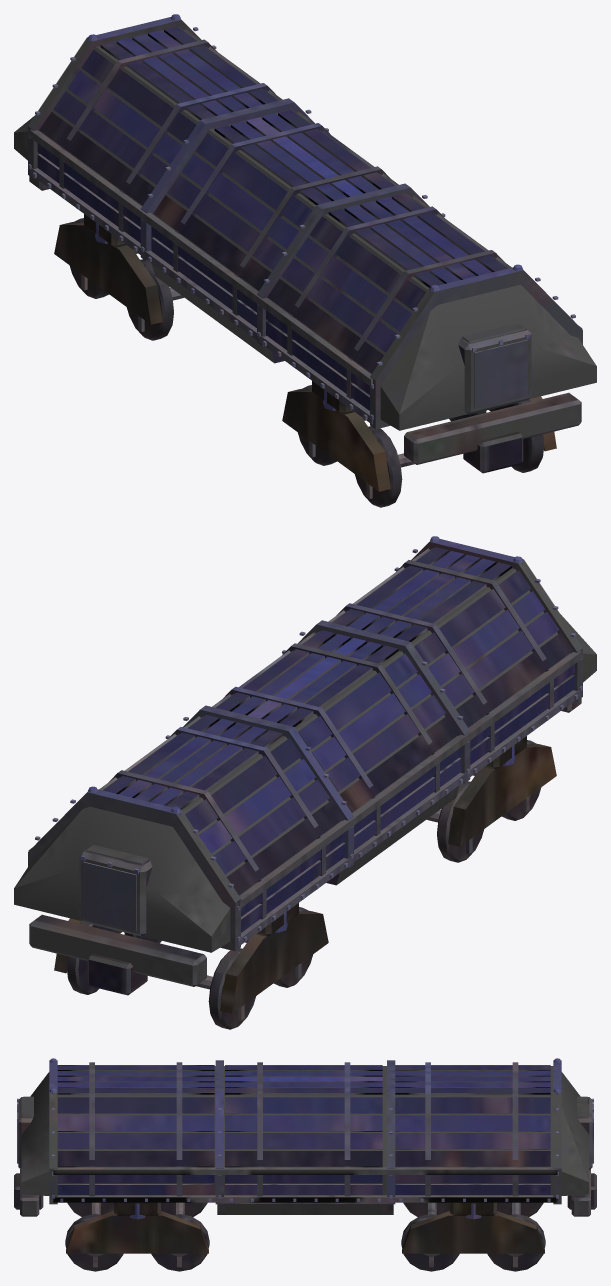
File: infinity-cargo-wagon.glb
3 renders of one model, top to bottom at view 1: azimuth 30°, elevation 25°; view 2: azimuth 150°, elevation 25°; view 3: azimuth 270°, elevation 25°, orthographic. The views are drawn at different scales.
Visible parts, largest first — view 1: body, anim_wheel_rail, anim_wheel_rail.002, anim_wheel_rail.001; view 2: body, anim_wheel_rail.003, anim_wheel_rail.001, anim_wheel_rail.002; view 3: body, anim_wheel_rail, anim_wheel_rail.001, anim_wheel_rail.002, anim_wheel_rail.003.
Boxes of the visible parts, x1,y1,x2,y2 form: body: [14, 14, 596, 491]; anim_wheel_rail: [355, 399, 544, 507]; anim_wheel_rail.002: [127, 259, 184, 340]; anim_wheel_rail.001: [298, 385, 486, 465]; body: [14, 536, 596, 1013]; anim_wheel_rail.003: [66, 921, 255, 1029]; anim_wheel_rail.001: [426, 781, 483, 862]; anim_wheel_rail.002: [124, 907, 312, 987]; body: [14, 1058, 596, 1253]; anim_wheel_rail: [65, 1202, 123, 1271]; anim_wheel_rail.001: [151, 1202, 209, 1271]; anim_wheel_rail.002: [401, 1202, 459, 1271]; anim_wheel_rail.003: [487, 1202, 545, 1271].
Bounding box in the file's own units: 2.15 × 2.25 × 6.94.
Materials: 1 (1 with a texture image).
